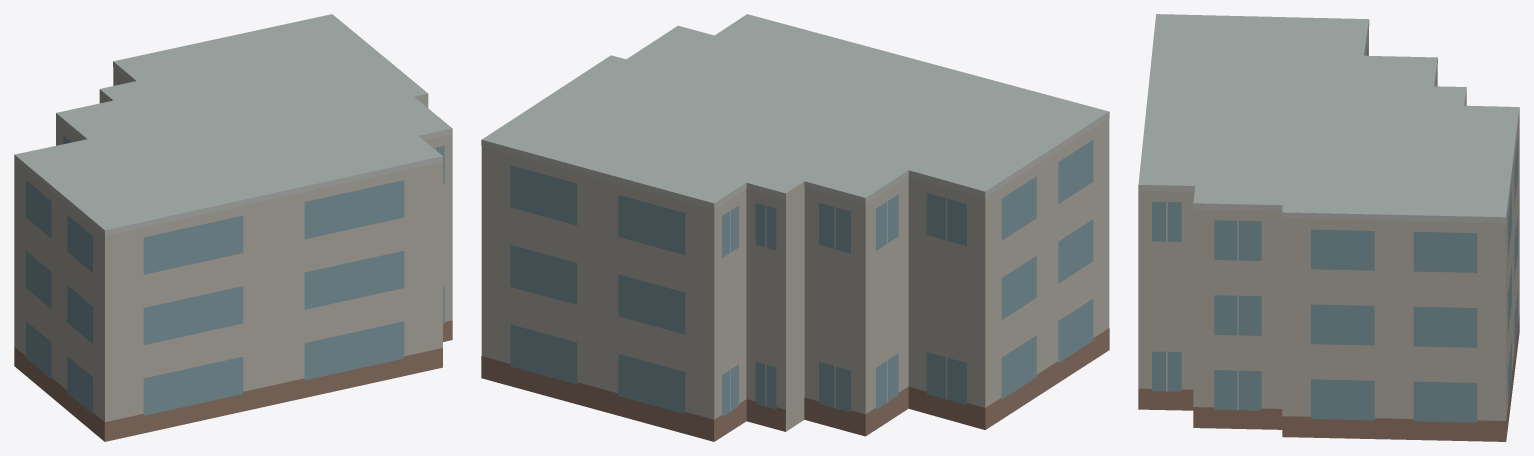
File: survey-upis-33039819.glb
3 renders of one model, left to right at view 1: azimuth 30°, elevation 25°; view 2: azimuth 150°, elevation 25°; view 3: azimuth 270°, elevation 25°, orthographic. The views are drawn at different scales.
Parts seen in each view (by area): view 1: survey-upis-33039819.tmp; view 2: survey-upis-33039819.tmp; view 3: survey-upis-33039819.tmp.
Boxes of the visible parts, left/top/right/bottom form: survey-upis-33039819.tmp: left=14, top=14, right=452, bottom=441; survey-upis-33039819.tmp: left=481, top=14, right=1109, bottom=441; survey-upis-33039819.tmp: left=1138, top=14, right=1519, bottom=441.
Bounding box in the file's own units: 17.76 × 9.15 × 14.08.
